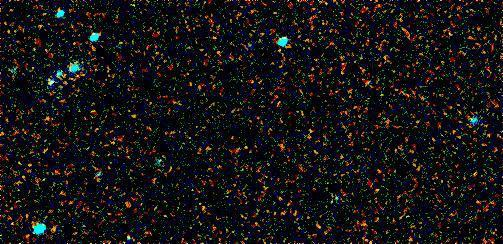star: (38, 214, 68, 244)
